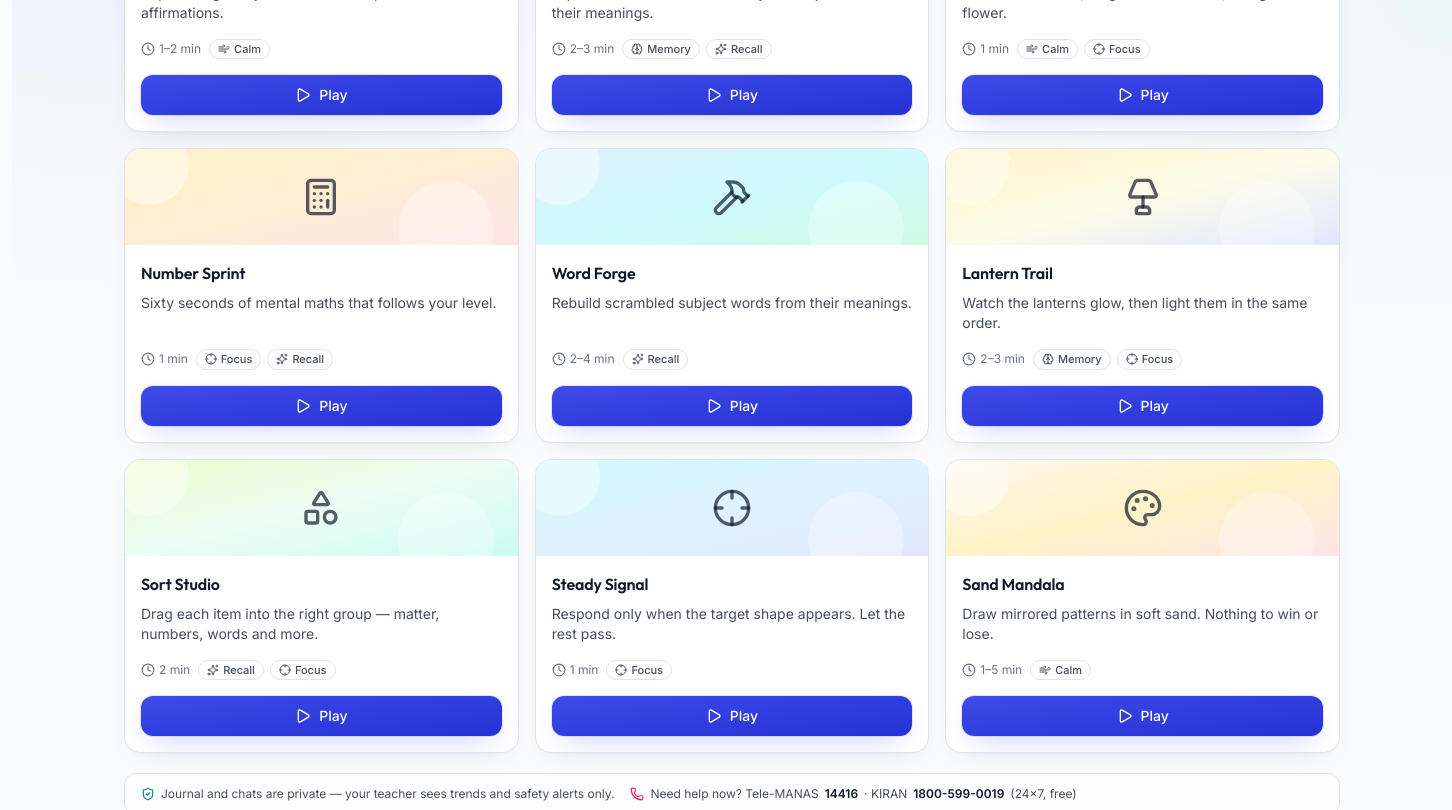
Test: Wellness ▸ Game Zone › opens a game from its card, lazily, and the tab bar always returns to the picker
(page scrolled)
What coordinates should you click on to do the following:
click the button with aria-label "Play Word Forge"
I would click on:
 (732, 406)
Its box is [552,386,912,426].
(page scrolled)
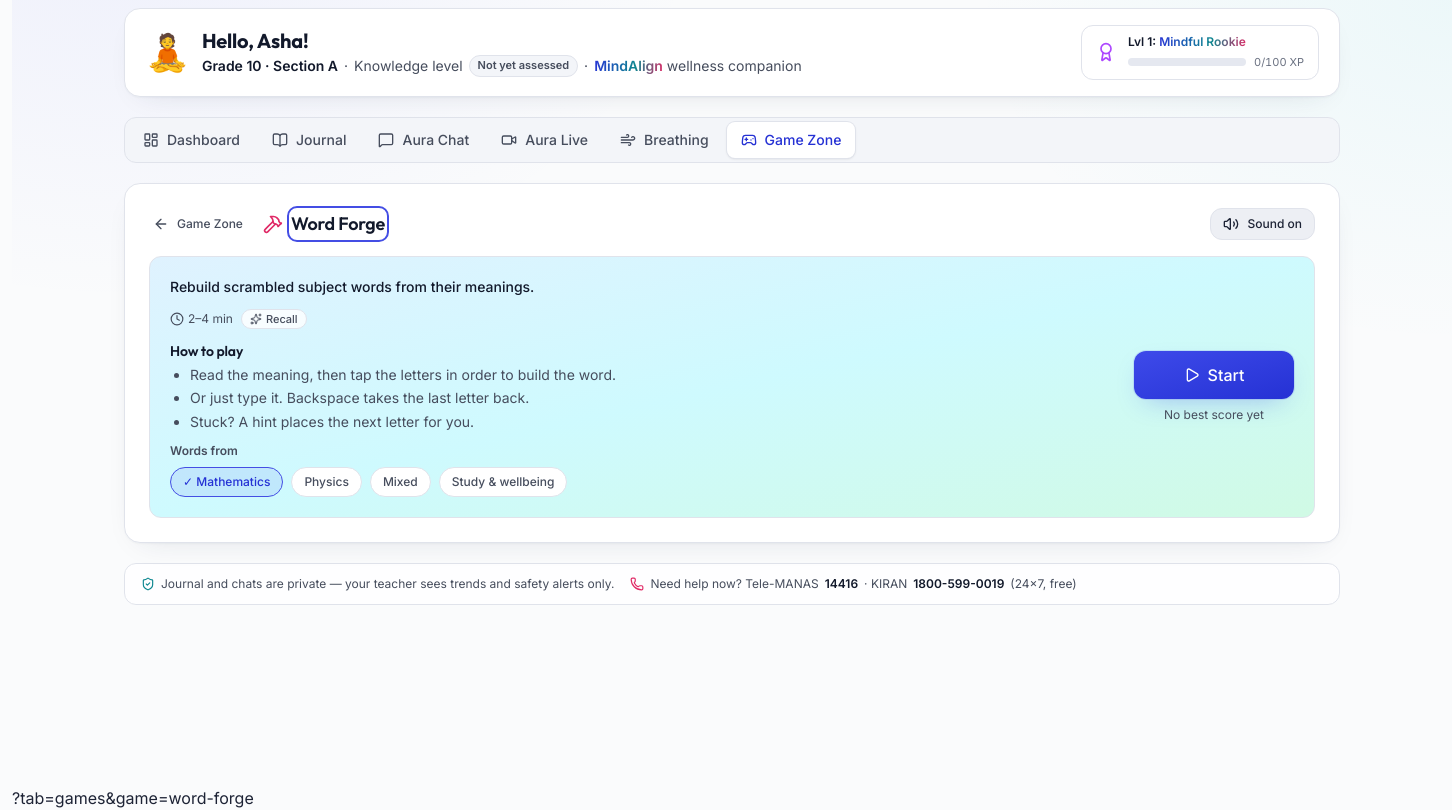
Now the text with test id "where" reads "?tab=games&game=word-forge", box [12,788,254,808]
Now the button "Start" is shown, box [1134,351,1294,399]
Now the element "Words from" is shown, box [170,443,568,497]
What coordinates should you click on to do the following:
click the tab "Breathing"
I would click on:
 (664, 140)
Its box is [606,122,723,158].
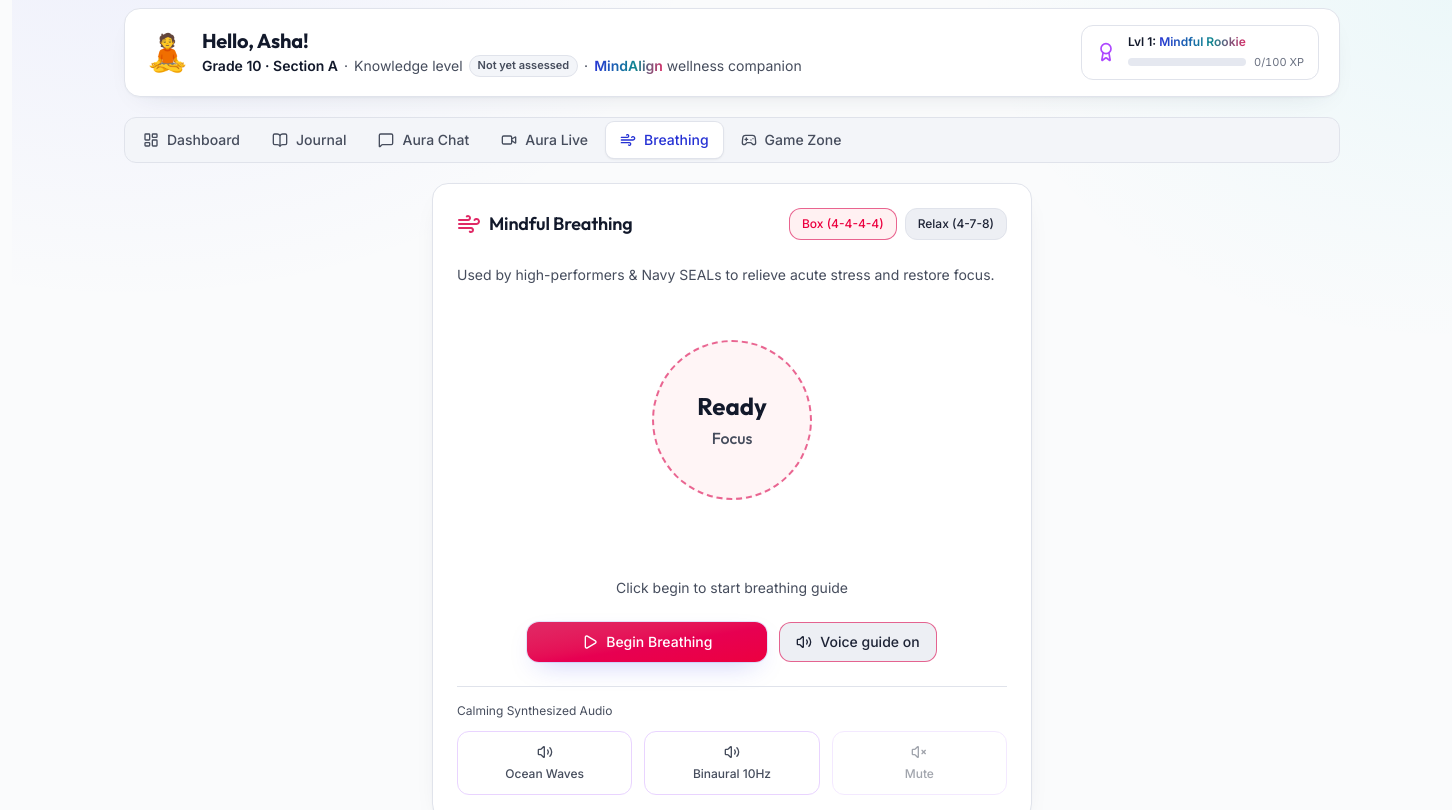
What coordinates should you click on to do the following:
click the tab "Game Zone"
I would click on:
 (791, 140)
Its box is [727,122,856,158].
(page scrolled)
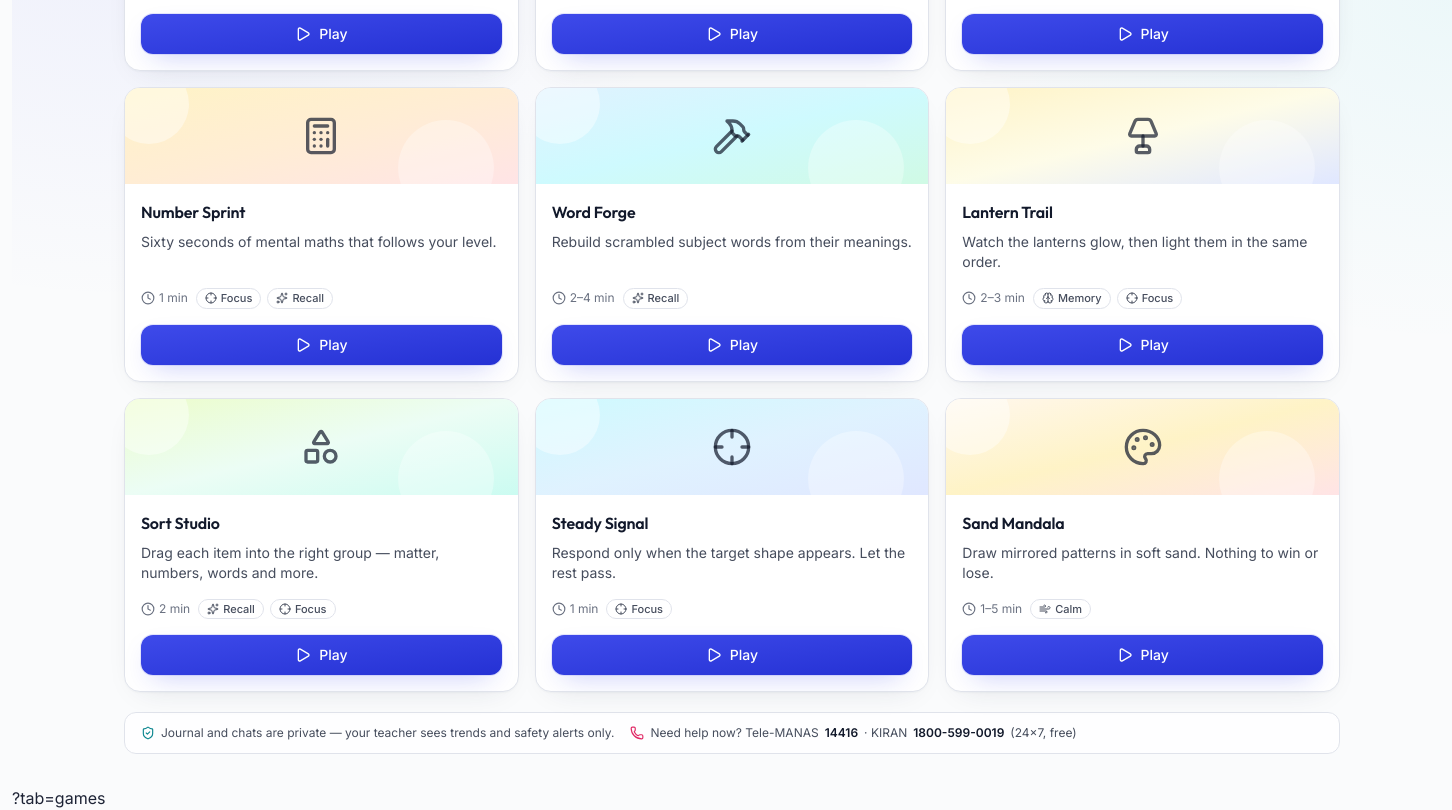
Now the text with test id "where" reads "?tab=games", box [12,788,106,808]
